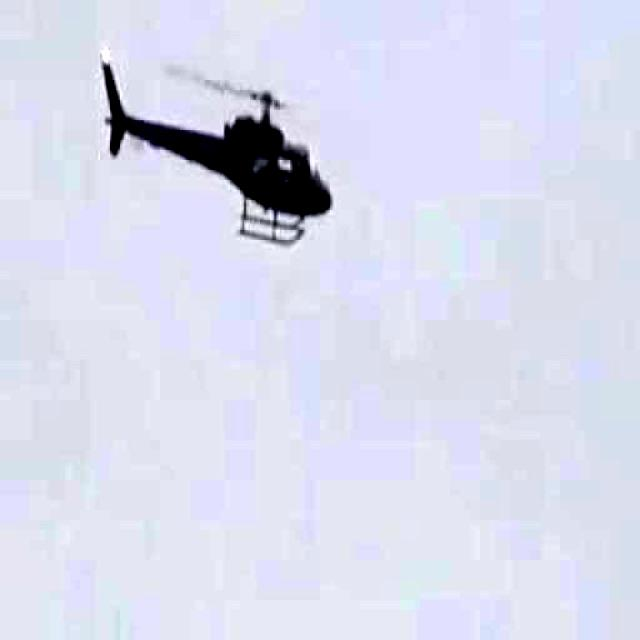drone: (98, 9, 336, 311)
